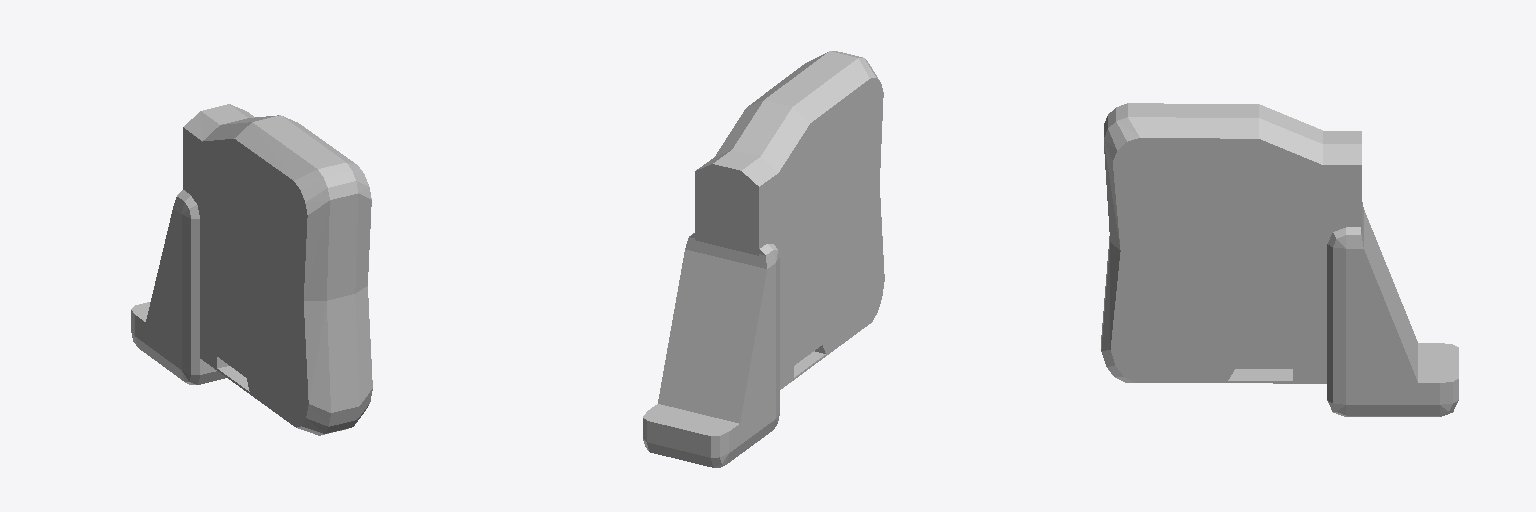
File: stock2.obj
The picture shows the model from 3 angles: view 1: azimuth 30°, elevation 25°; view 2: azimuth 150°, elevation 25°; view 3: azimuth 270°, elevation 25°; orthographic projection.
Parts seen in each view (by area): view 1: stock2; view 2: stock2; view 3: stock2.
Part boxes in pixels (left/top/right/bottom): stock2: left=131, top=104, right=372, bottom=435; stock2: left=643, top=51, right=884, bottom=467; stock2: left=1101, top=103, right=1458, bottom=416.
Size of the model in its own units: 5.8 by 19.64 by 21.81.